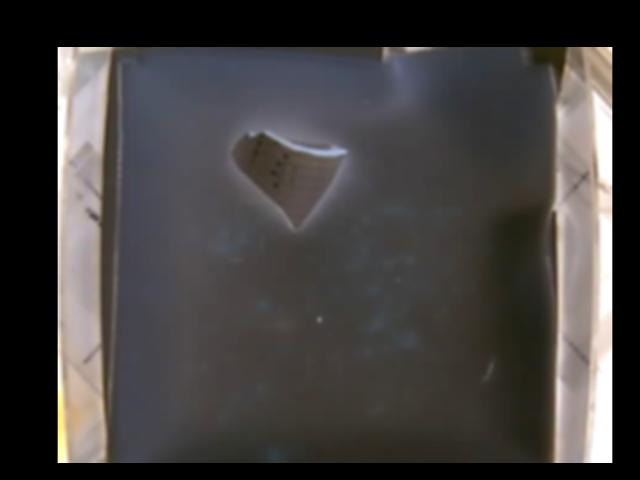China: (233, 129, 348, 229)
